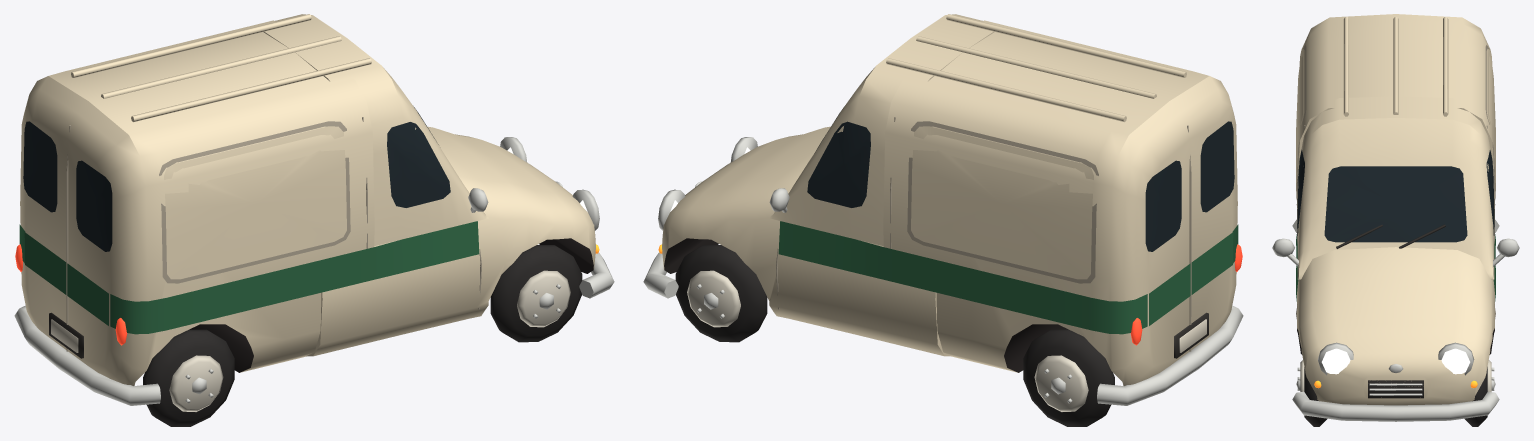
File: van.glb
3 views of the same model, side by side, from view 1: azimuth 30°, elevation 25°; view 2: azimuth 150°, elevation 25°; view 3: azimuth 270°, elevation 25° (orthographic). The views are drawn at different scales.
Visible parts, largest first — view 1: Box, Body, PanelInset-1, Stripe, Cab, WheelFR, WheelBR, CabWindow-1, BumperRear, RearWindow-1, PanelGroove-1, RearWindow1 (+6 smaller); view 2: Box, Body, PanelInset1, Stripe, Cab, WheelFL, WheelBL, CabWindow1, BumperRear, RearWindow1, PanelGroove1, RearWindow-1 (+6 smaller); view 3: Body, Cab, Box, Windscreen, BumperFront, Grille, RoofRib0.3, RoofRib-0.3, RoofRib0, Head1Lens, Head-1Lens, PanelInset1 (+9 smaller).
Part boxes in pixels (x1,y1,x2,y2): Box: (20, 20, 374, 385); Body: (306, 126, 595, 356); PanelInset-1: (164, 126, 346, 279); Stripe: (19, 221, 479, 334); Cab: (263, 14, 488, 245); WheelFR: (490, 245, 582, 342); WheelBR: (143, 329, 234, 426); CabWindow-1: (387, 122, 450, 207); BumperRear: (14, 305, 160, 405); RearWindow-1: (76, 160, 112, 251); PanelGroove-1: (159, 121, 350, 283); RearWindow1: (23, 121, 57, 212); Box: (883, 20, 1237, 385); Body: (662, 126, 951, 356); PanelInset1: (911, 126, 1093, 279); Stripe: (778, 221, 1238, 334); Cab: (769, 14, 994, 245); WheelFL: (675, 245, 767, 342); WheelBL: (1023, 329, 1114, 426); CabWindow1: (807, 121, 870, 207); BumperRear: (1097, 305, 1243, 405); RearWindow1: (1145, 160, 1181, 251); PanelGroove1: (907, 121, 1098, 283); RearWindow-1: (1200, 121, 1234, 212); Body: (1297, 247, 1494, 405); Cab: (1297, 96, 1494, 279); Box: (1297, 14, 1494, 231); Windscreen: (1324, 166, 1467, 242); BumperFront: (1292, 391, 1499, 421); Grille: (1368, 380, 1423, 398); RoofRib0.3: (1443, 17, 1448, 116); RoofRib-0.3: (1343, 17, 1348, 116); RoofRib0: (1393, 17, 1398, 114); Head1Lens: (1441, 348, 1470, 374); Head-1Lens: (1321, 348, 1350, 374); PanelInset1: (1487, 49, 1495, 199).
Size of the model in its own units: 2.99 by 1.68 by 1.5.
